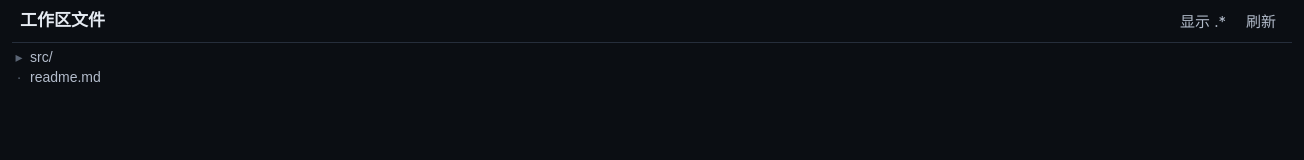
it: FileTree › 挂载时只请求根层；目录展开才请求下一层
The image size is (1304, 160).
Expected: the text "readme.md" is shown, top-left (30, 68), bottom-right (101, 84)
// 展开 src 目录 → 请求下一层
Click the text "src/" at (41,56), box top-left (30, 48), bottom-right (53, 64)
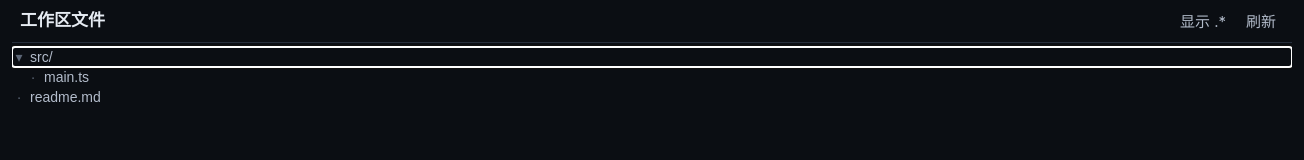
Expected: the text "main.ts" is shown, top-left (44, 68), bottom-right (89, 84)
